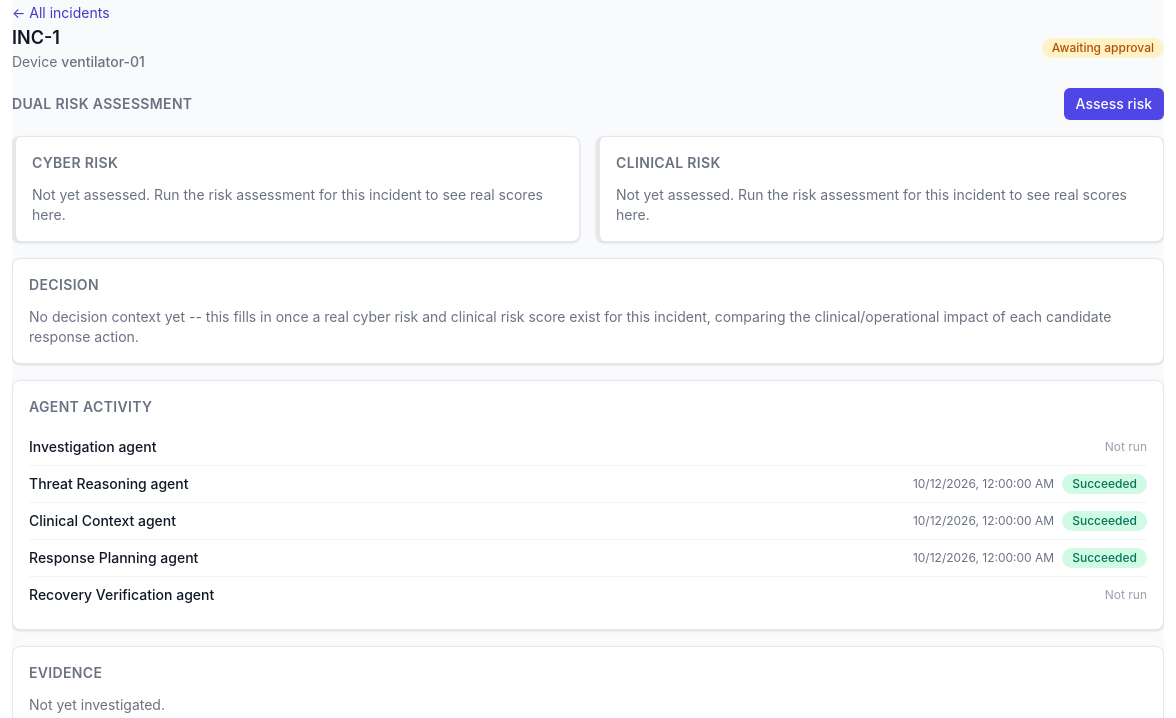
Scenario: IncidentDetail › assesses risk from real agent traces and renders the resulting dual-risk scores
This screenshot has width=1176, height=718.
Expected: the text "Succeeded" is shown 3 times, 1062,474 -> 1147,494; 1062,511 -> 1147,531; 1062,548 -> 1147,568
Expected: the text "Not run" is shown 2 times, 1105,439 -> 1147,455; 1105,587 -> 1147,603
Click the button "Assess risk" at (1114, 104), box 1064,88 -> 1164,120
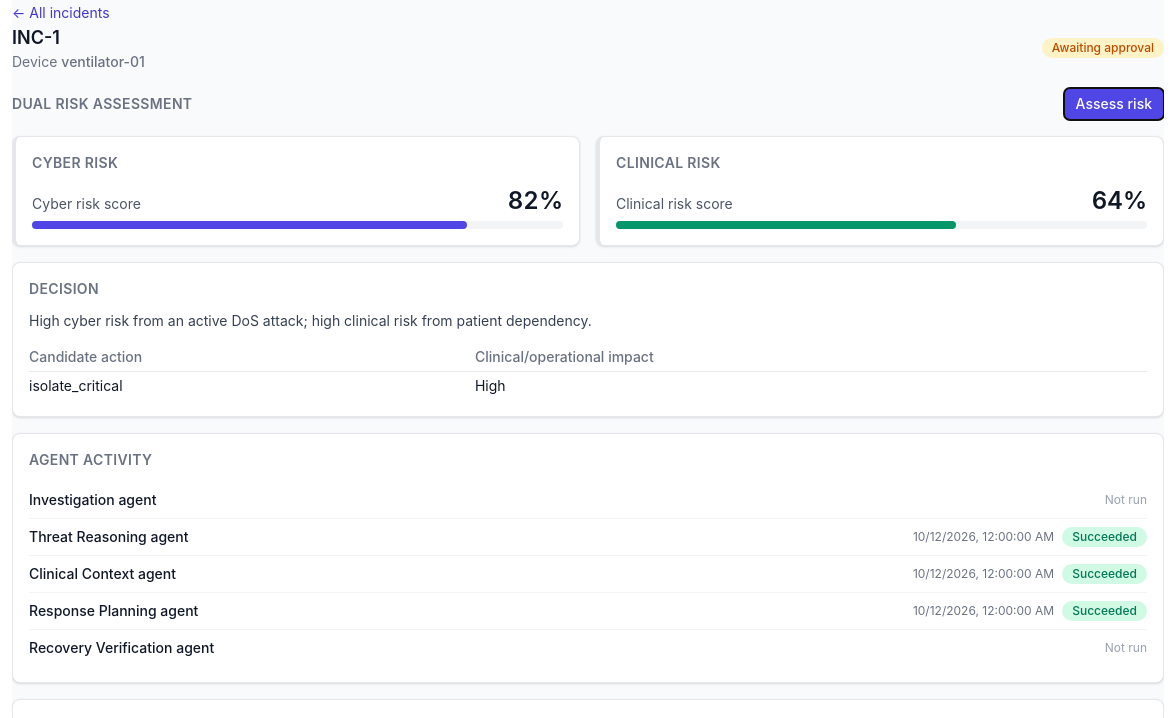
Expected: the text "82%" is shown, 508,185 -> 563,217
Expected: the text "64%" is shown, 1092,185 -> 1147,217
Expected: the text "High cyber risk from an active DoS attack" is shown, 29,312 -> 592,329
